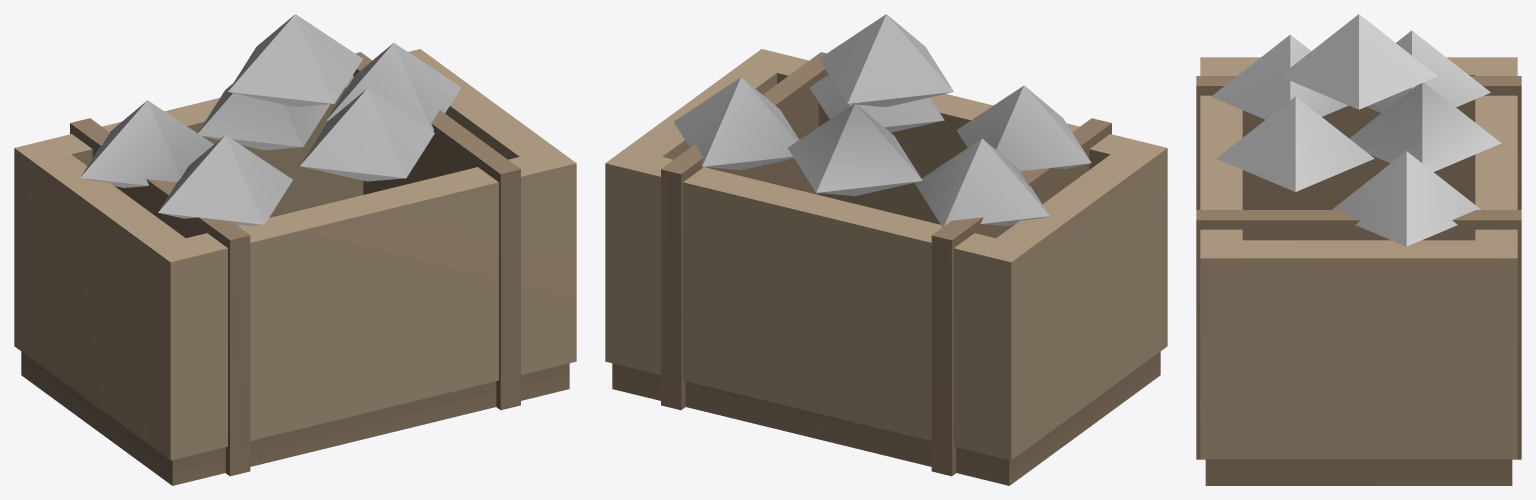
The model's file is ore_crate_low.glb.
3 renders of one model, left to right at view 1: azimuth 30°, elevation 25°; view 2: azimuth 150°, elevation 25°; view 3: azimuth 270°, elevation 25°, orthographic.
Parts seen in each view (by area): view 1: geometry_ore_crate; view 2: geometry_ore_crate; view 3: geometry_ore_crate.
Boxes of the visible parts, <box> form: geometry_ore_crate: <box>14,14,576,485</box>; geometry_ore_crate: <box>605,14,1167,485</box>; geometry_ore_crate: <box>1196,14,1521,485</box>.
Bounding box in the file's own units: 0.9 × 0.78 × 0.615.
